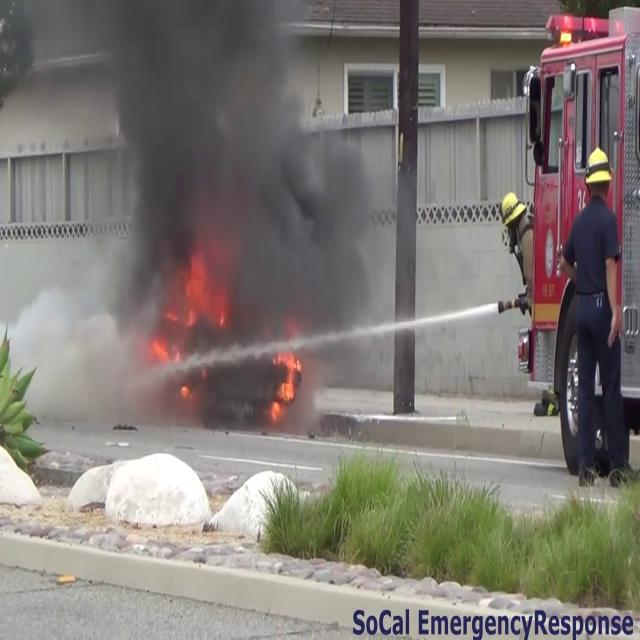Fire: (150, 242, 222, 374), (268, 338, 306, 418)
Smoke: (94, 0, 387, 361)
